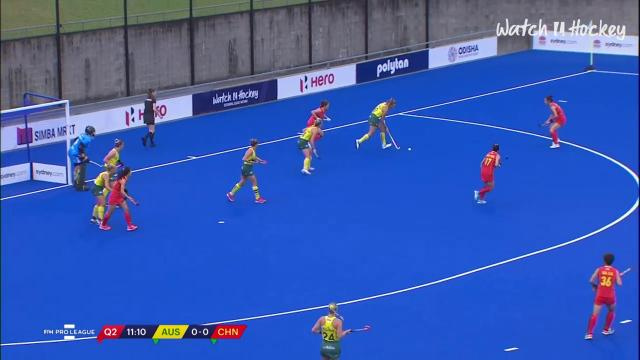ball: (402, 146, 412, 154)
